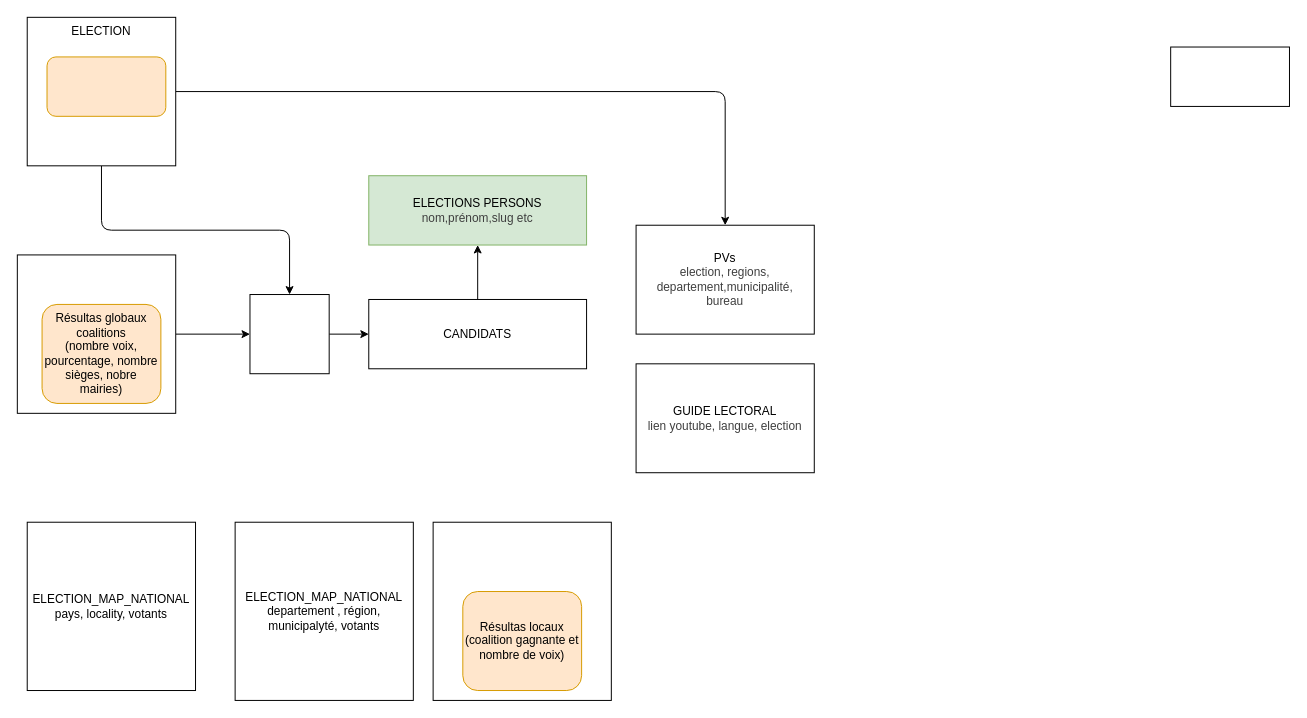
This 1307x718 diagram has some shape labels left out. The box of each missing label's shape, as (x1, y1, x2, y2) in pixels:
ASSEMBLEE DEPUTE: (1170, 46, 1289, 106)
CARTE election colaition gagnante circonscription: (432, 521, 611, 700)
chiffres globaux (votants, particpation etc): (46, 56, 166, 116)
COALITIONS party: (16, 254, 176, 413)
LISTE électorales: (249, 294, 329, 374)
